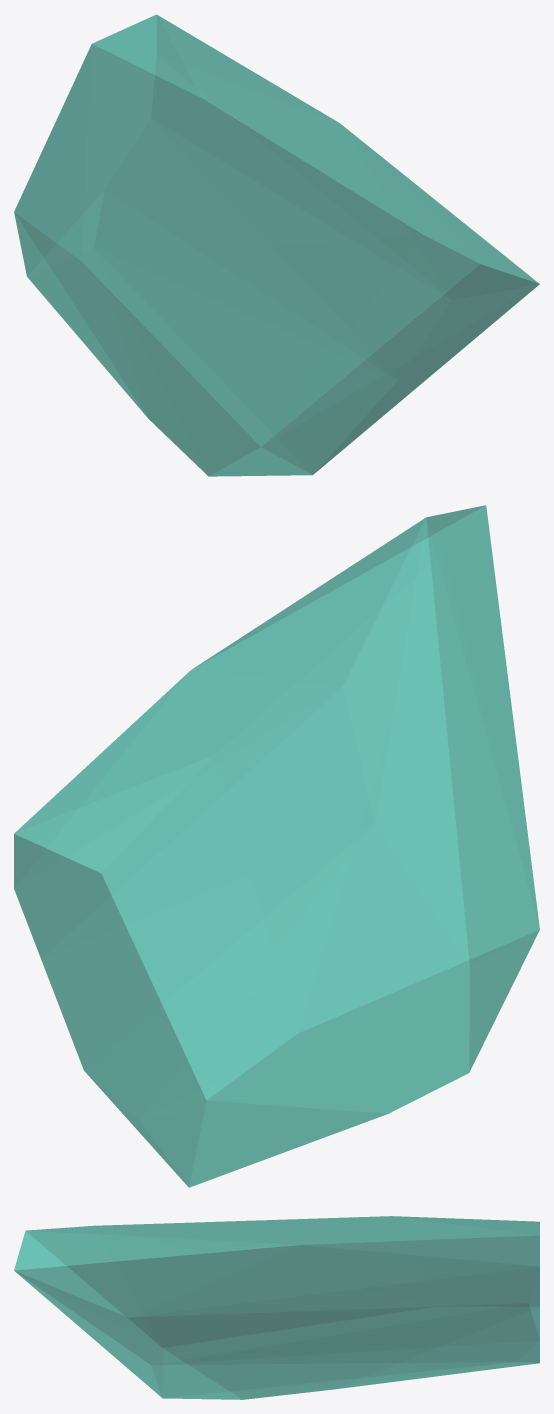
3 renders of one model, top to bottom at view 1: azimuth 30°, elevation 25°; view 2: azimuth 150°, elevation 25°; view 3: azimuth 270°, elevation 25°, orthographic. The views are drawn at different scales.
Parts seen in each view (by area): view 1: Shape_IndexedFaceSet.016_Shape_IndexedFaceSet.1981; view 2: Shape_IndexedFaceSet.016_Shape_IndexedFaceSet.1981; view 3: Shape_IndexedFaceSet.016_Shape_IndexedFaceSet.1981.
Part boxes in pixels (box(x1,y1,x2,y2)): Shape_IndexedFaceSet.016_Shape_IndexedFaceSet.1981: box(14, 14, 539, 476); Shape_IndexedFaceSet.016_Shape_IndexedFaceSet.1981: box(14, 505, 539, 1187); Shape_IndexedFaceSet.016_Shape_IndexedFaceSet.1981: box(14, 1216, 539, 1399).
Size of the model in its own units: 0.0745 by 0.1117 by 0.2447.
